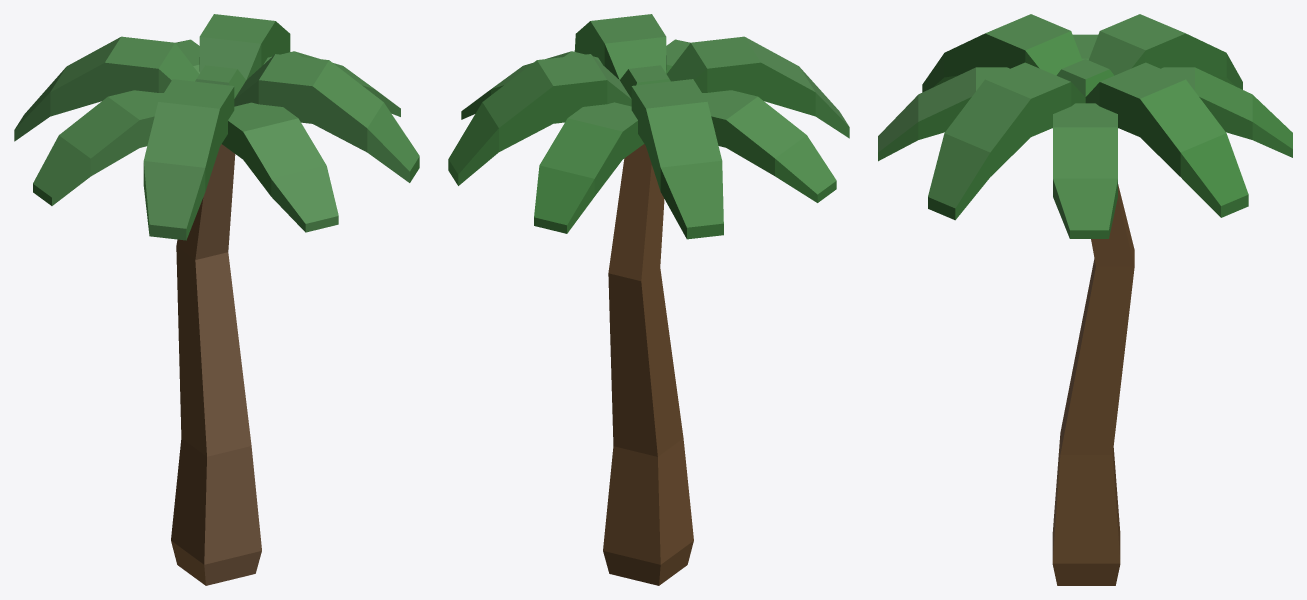
Rendered from palm_tall.glb.
The picture shows the model from 3 angles, left to right: view 1: azimuth 30°, elevation 25°; view 2: azimuth 150°, elevation 25°; view 3: azimuth 270°, elevation 25°; orthographic projection.
Parts seen in each view (by area): view 1: palm_tall; view 2: palm_tall; view 3: palm_tall.
Part boxes in pixels (x1,y1,x2,y2): palm_tall: (14,14,419,585); palm_tall: (448,14,849,585); palm_tall: (878,14,1292,585).
Bounding box in the file's own units: 5.38 × 7.4 × 5.38.
